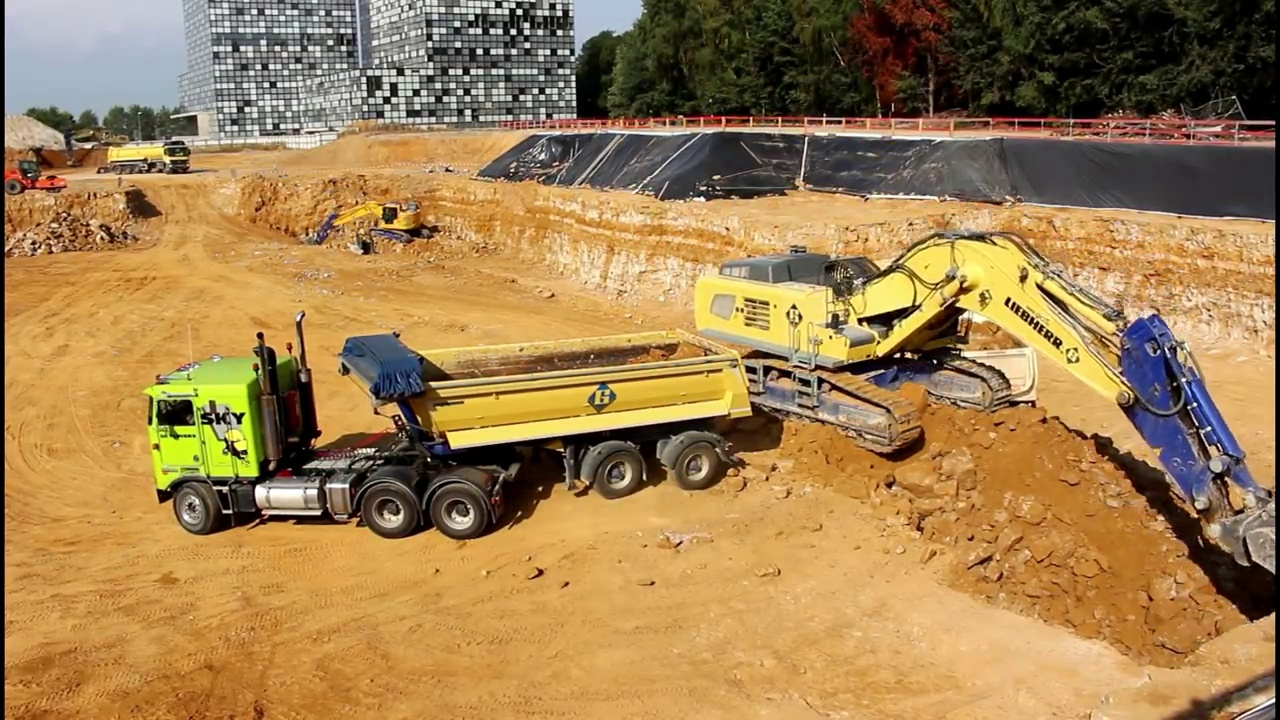compactor: (4, 157, 67, 198)
excavator: (688, 221, 1280, 597), (311, 189, 439, 259), (64, 120, 132, 152)
truck: (137, 306, 768, 548), (892, 262, 1056, 427), (102, 136, 194, 179)
